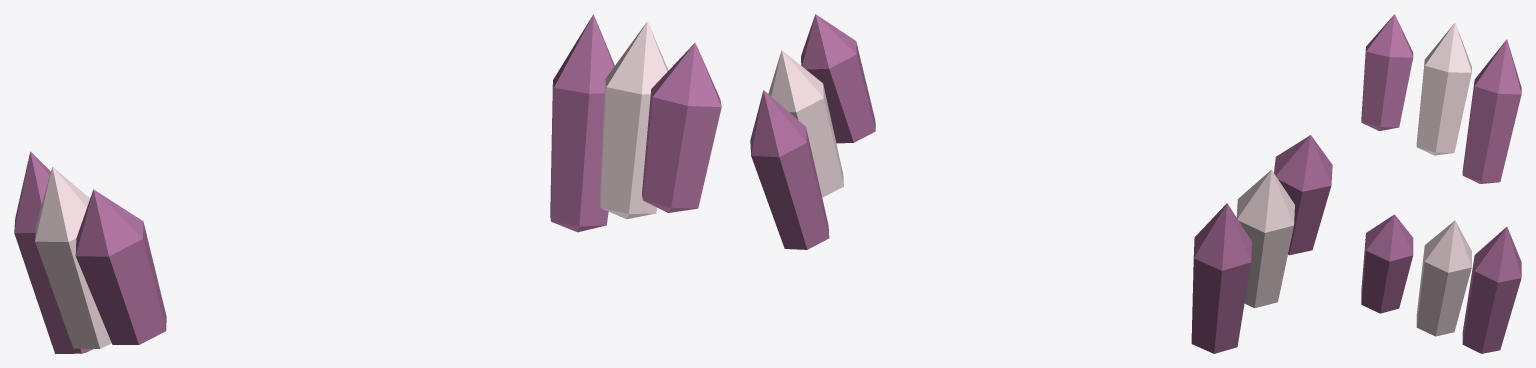
The model's file is quartz-og-v1-accessories.fbx.
3 views of the same model, side by side, from view 1: azimuth 30°, elevation 25°; view 2: azimuth 150°, elevation 25°; view 3: azimuth 270°, elevation 25° (orthographic). The views are drawn at different scales.
Visible parts, largest first — view 1: QuartzPoint_1_2, QuartzPoint_1_0, QuartzPoint_-1_0, QuartzPoint_1_1, QuartzPoint_-1_1, QuartzPoint_-1_2; view 2: QuartzPoint_1_2, QuartzPoint_-1_2, QuartzPoint_1_0, QuartzPoint_-1_1, QuartzPoint_1_1, QuartzPoint_-1_0; view 3: QuartzPoint_-1_2, QuartzPoint_1_2, QuartzPoint_-1_1, QuartzPoint_1_1, QuartzPoint_-1_0, QuartzPoint_1_0.
Boxes of the visible parts, x1,y1,x2,y2 form: QuartzPoint_1_2: [550, 14, 614, 232]; QuartzPoint_1_0: [642, 43, 721, 212]; QuartzPoint_-1_0: [75, 189, 166, 344]; QuartzPoint_1_1: [599, 21, 668, 219]; QuartzPoint_-1_1: [35, 166, 111, 348]; QuartzPoint_-1_2: [14, 151, 92, 353]; QuartzPoint_1_2: [750, 90, 829, 249]; QuartzPoint_-1_2: [1191, 203, 1251, 353]; QuartzPoint_1_0: [801, 14, 875, 143]; QuartzPoint_-1_1: [1236, 170, 1294, 308]; QuartzPoint_1_1: [768, 50, 843, 197]; QuartzPoint_-1_0: [1274, 135, 1332, 255]; QuartzPoint_-1_2: [1462, 39, 1521, 183]; QuartzPoint_1_2: [1462, 227, 1521, 353]; QuartzPoint_-1_1: [1416, 22, 1471, 155]; QuartzPoint_1_1: [1416, 220, 1471, 336]; QuartzPoint_-1_0: [1361, 14, 1413, 130]; QuartzPoint_1_0: [1361, 214, 1413, 313].
Size of the model in its own units: 1105 by 365 by 349.
